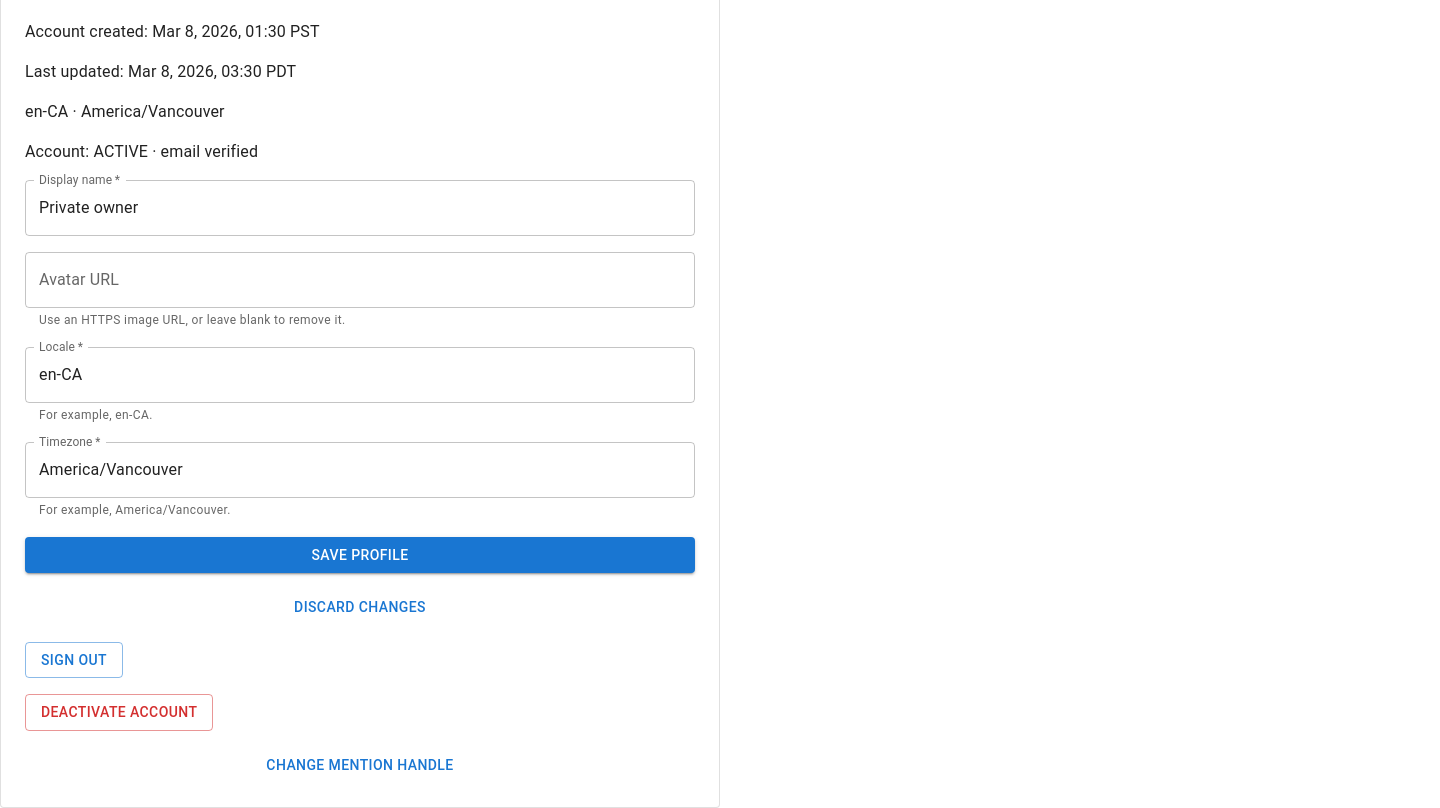
PRD-02/03/18 account deactivation › does not treat an unexpected successful response as a deactivation acknowledgment
The image size is (1440, 808).
(page scrolled)
Click the button "Deactivate account": (119, 712) [25, 694, 213, 731]
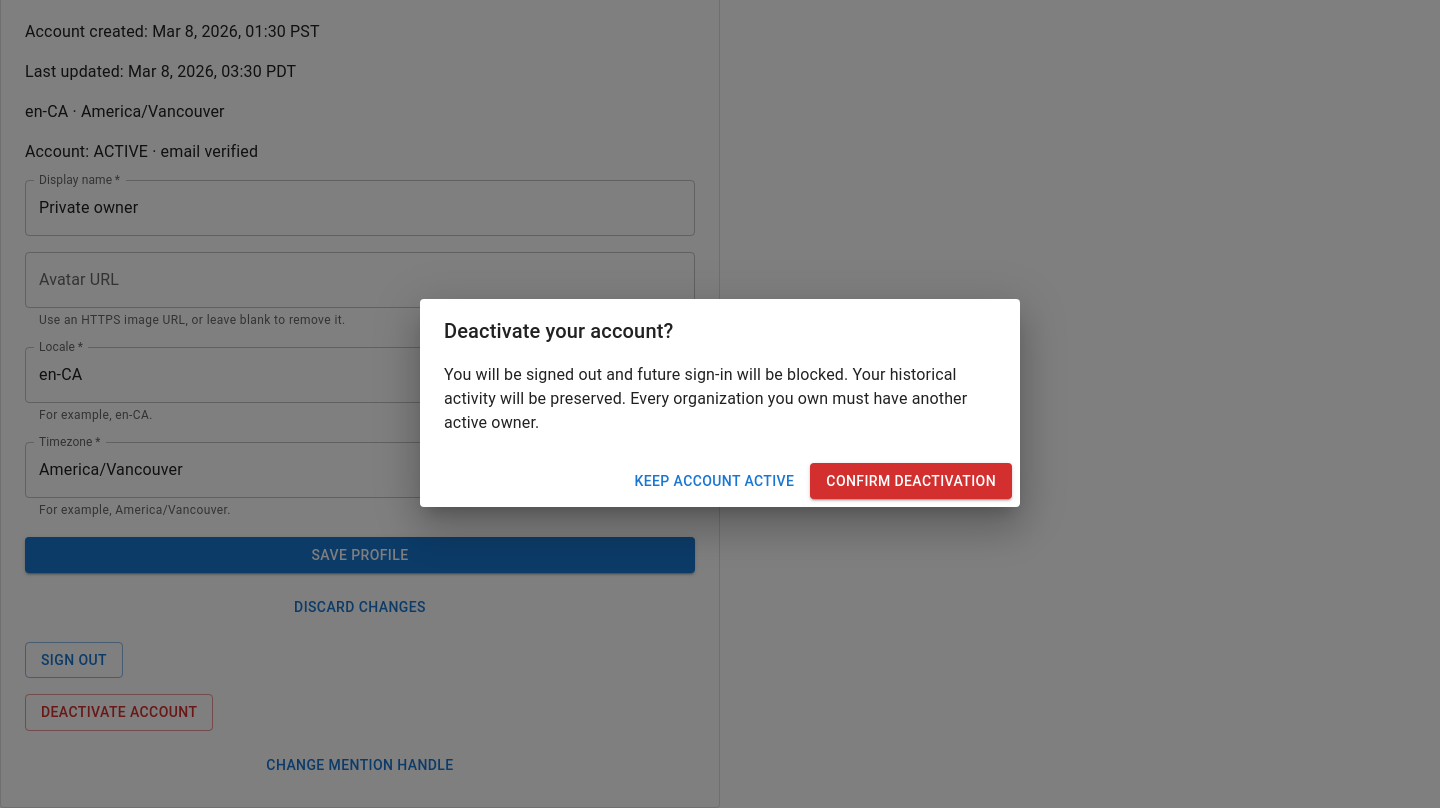
Check: the dialog "Deactivate your account?" is shown, box [420, 299, 1020, 507]
Click the button "Confirm deactivation": (911, 481) [810, 463, 1012, 499]
(page scrolled)
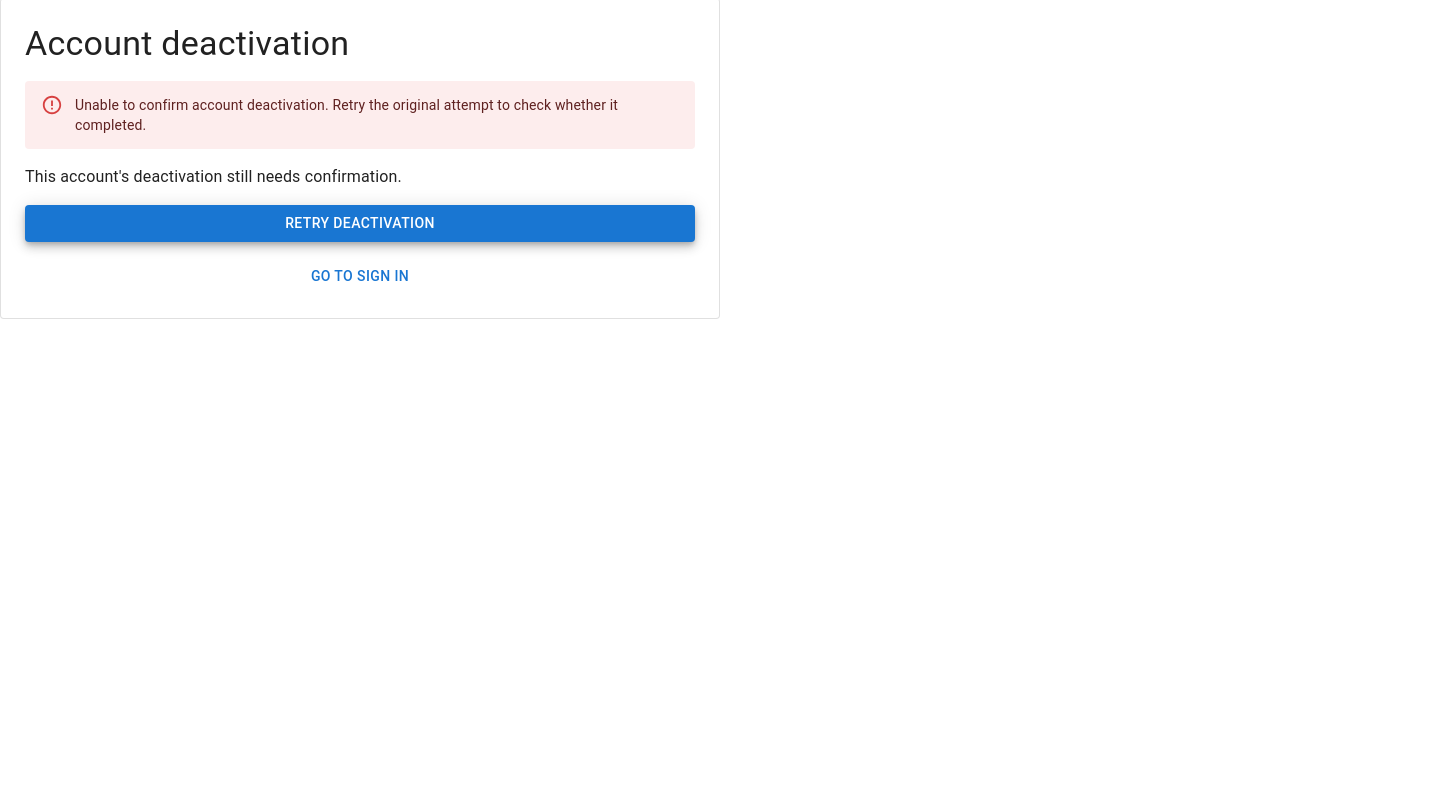
Check: the button "Retry deactivation" is shown, box [25, 205, 695, 242]
